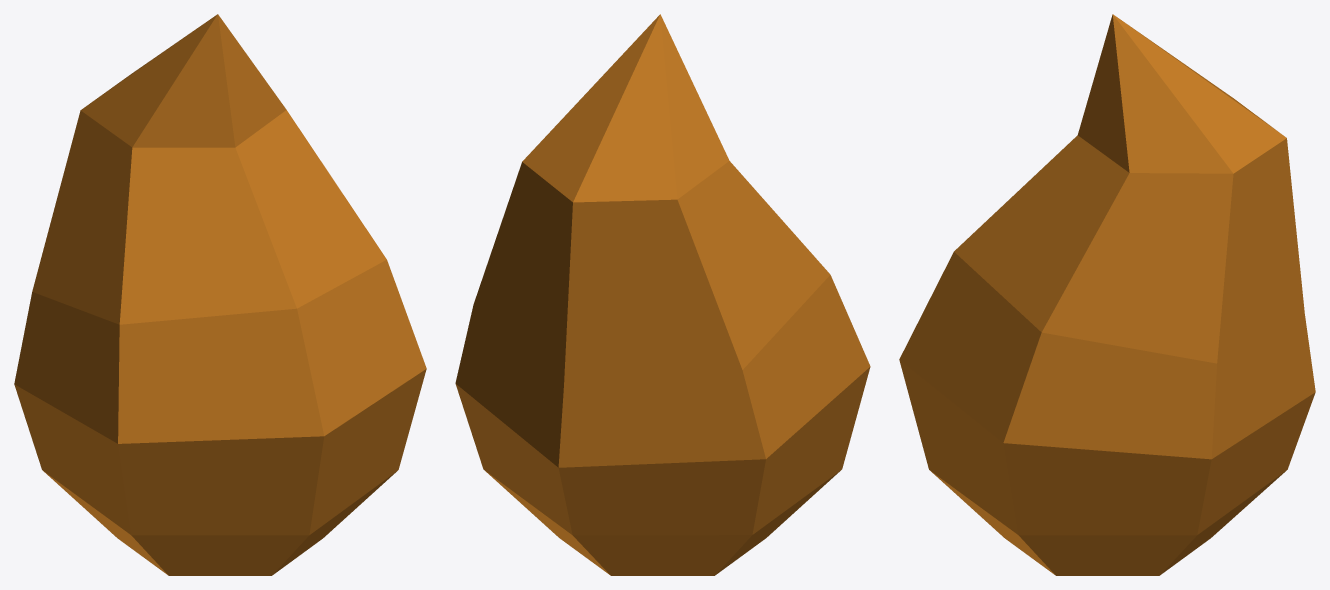
File: LD_Seed.fbx
3 renders of one model, left to right at view 1: azimuth 30°, elevation 25°; view 2: azimuth 150°, elevation 25°; view 3: azimuth 270°, elevation 25°, orthographic.
Visible parts, largest first — view 1: Seed; view 2: Seed; view 3: Seed.
Boxes of the visible parts, bbox=[...] form: Seed: bbox=[14, 14, 426, 575]; Seed: bbox=[455, 14, 870, 575]; Seed: bbox=[899, 14, 1315, 575].
Bounding box in the file's own units: 21.9 × 37.12 × 25.51.
